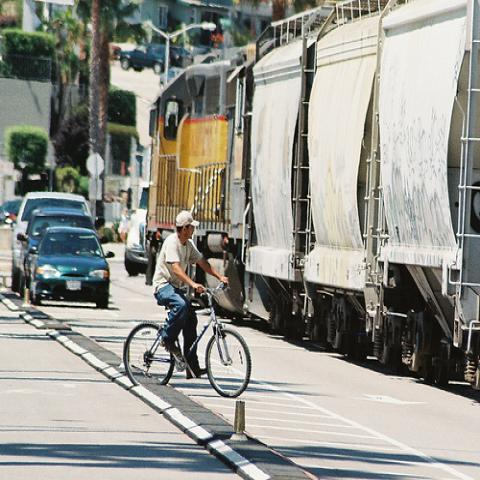car: (10, 188, 92, 293), (29, 223, 116, 309), (18, 208, 95, 280), (125, 177, 151, 277), (120, 45, 182, 76), (160, 66, 186, 91)
